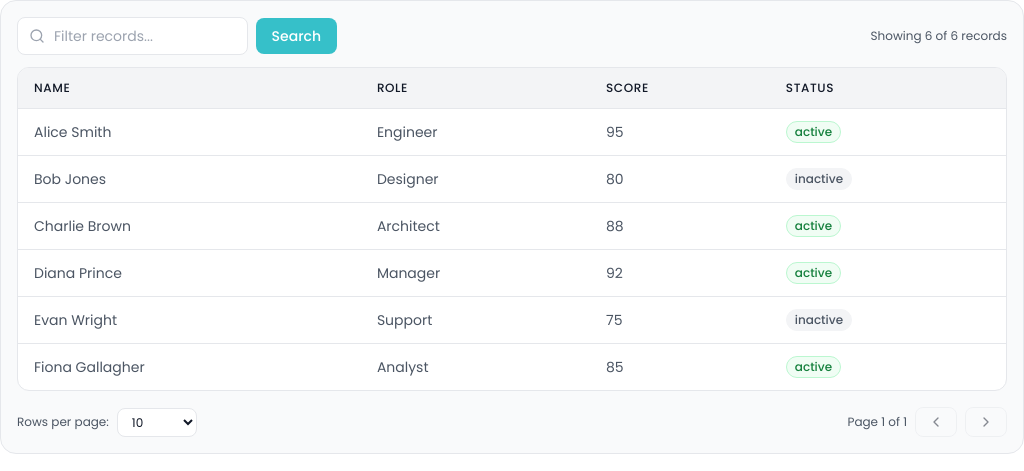
Test: DataTable › sorts records for strings and numbers across 3-click cycle
Click the column heading "Name": {"x": 52, "y": 88} top-left (18, 68), bottom-right (361, 108)
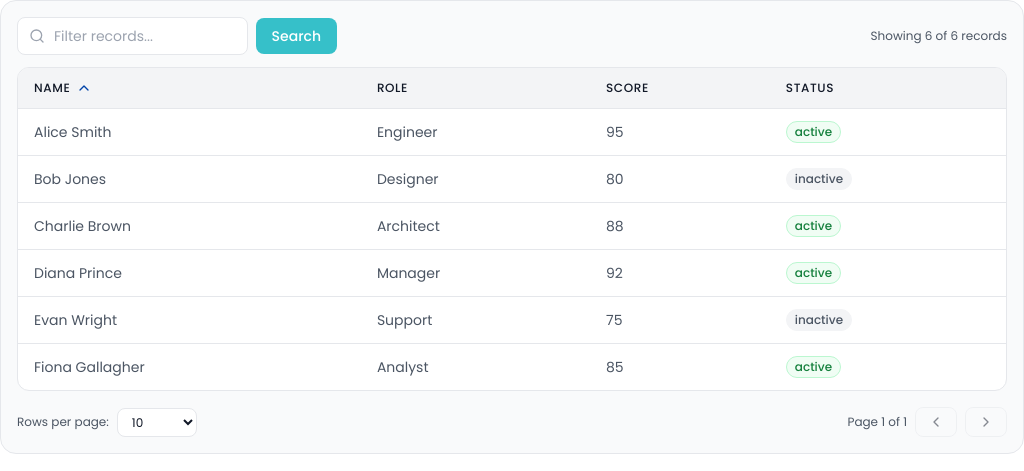
Check: the picture named "chevron-up" is shown, box top-left (76, 80), bottom-right (92, 96)
Click the column heading "Name": {"x": 52, "y": 88} top-left (18, 68), bottom-right (361, 108)
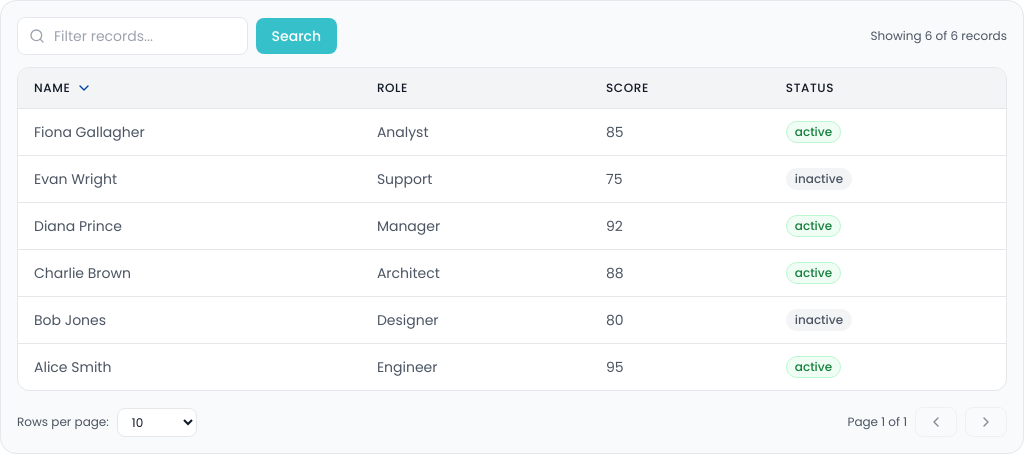
Check: the picture named "chevron-down" is shown, box top-left (76, 80), bottom-right (92, 96)
Click the column heading "Name": {"x": 52, "y": 88} top-left (18, 68), bottom-right (361, 108)
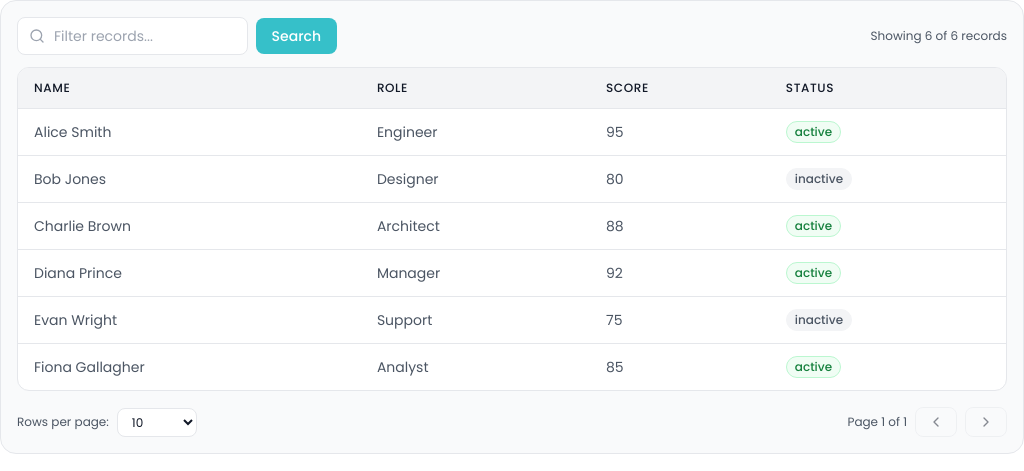
Check: the picture "chevron-down" is gone
# Sort numbers
Click the column heading "Score": {"x": 627, "y": 88} top-left (590, 68), bottom-right (770, 108)
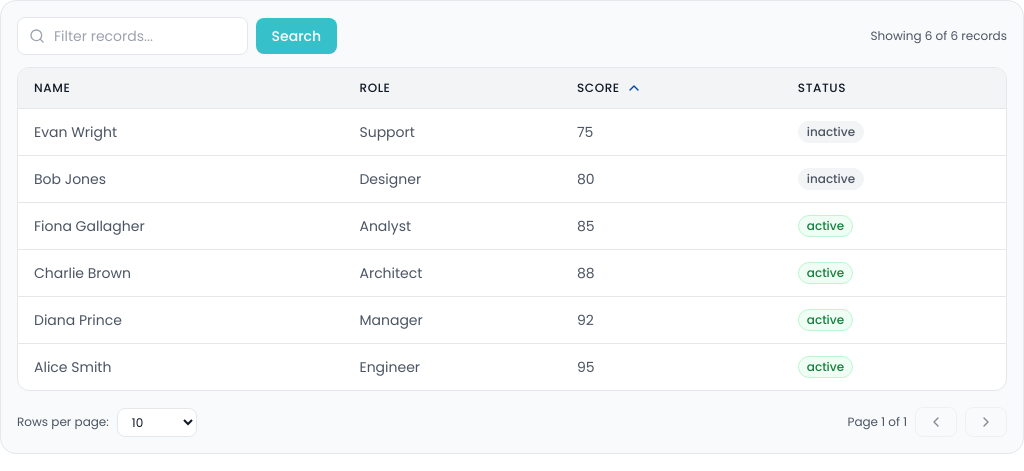
Check: the picture named "chevron-up" is shown, box top-left (626, 80), bottom-right (642, 96)
Click the column heading "Score": {"x": 598, "y": 88} top-left (561, 68), bottom-right (782, 108)
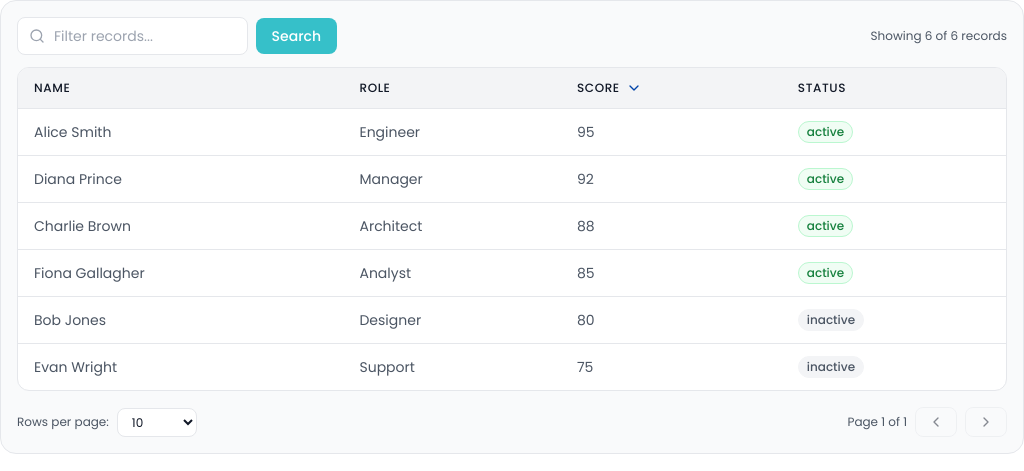
Check: the picture named "chevron-down" is shown, box top-left (626, 80), bottom-right (642, 96)
